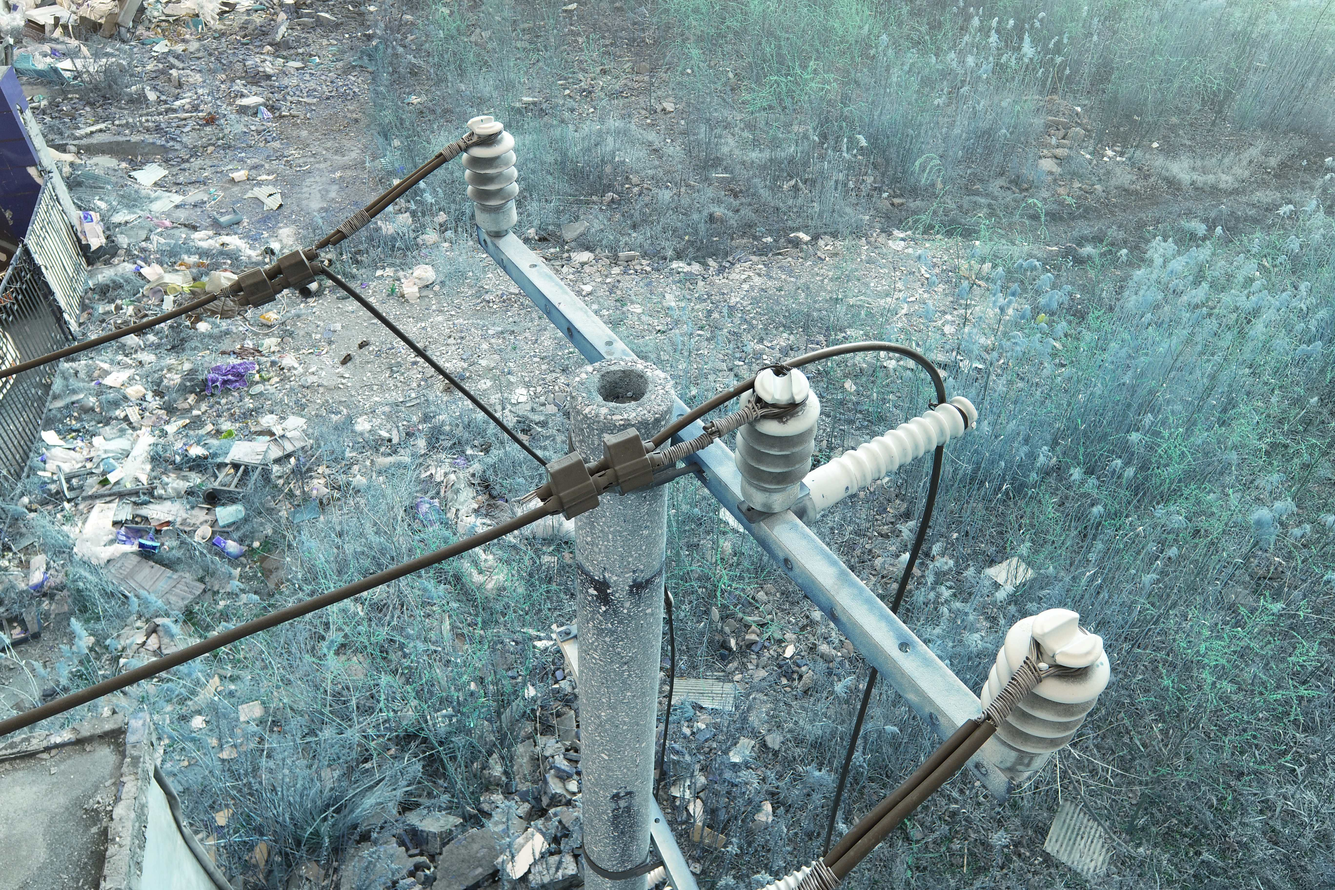severe_soiling_no_discharge_whole: (973, 599, 1117, 780), (729, 360, 822, 518), (455, 108, 530, 240)
